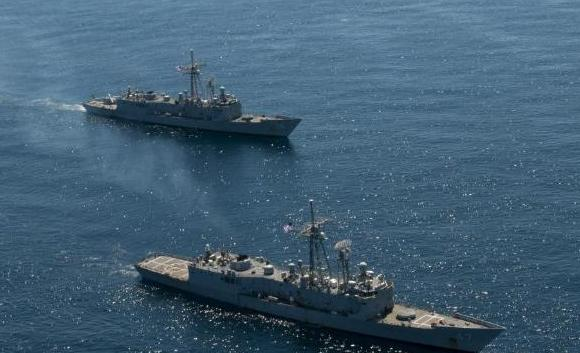warship: (138, 202, 510, 349), (83, 54, 306, 146)
